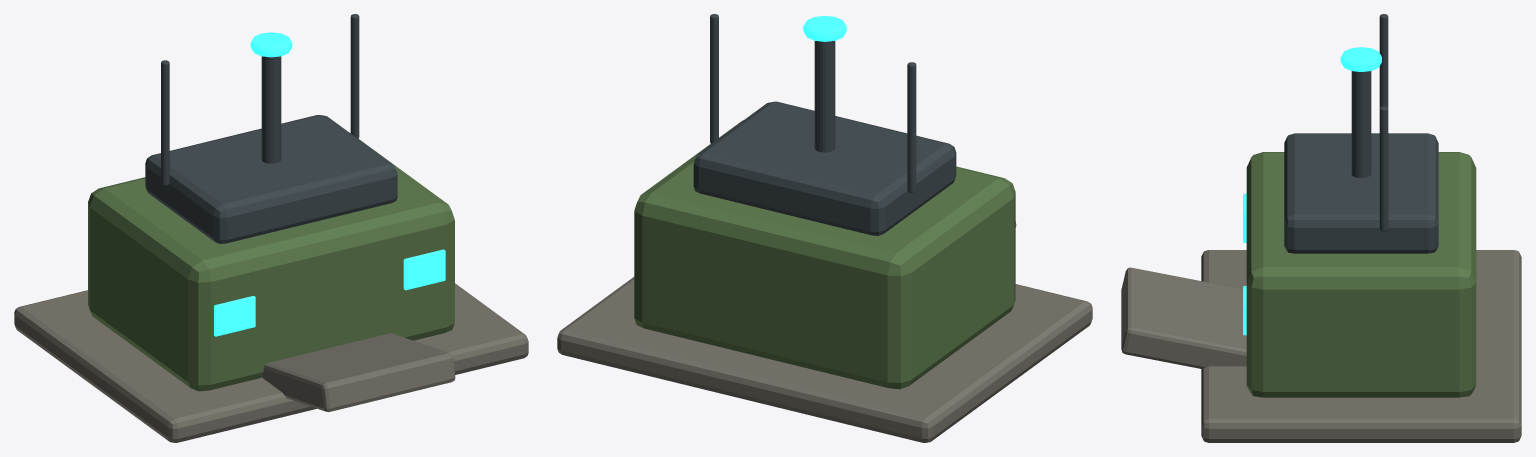
The model's file is human_hq.glb.
The picture shows the model from 3 angles, left to right: view 1: azimuth 30°, elevation 25°; view 2: azimuth 150°, elevation 25°; view 3: azimuth 270°, elevation 25°; orthographic projection. The views are drawn at different scales.
Parts seen in each view (by area): view 1: MainHull, UpperDeck, Foundation, FrontRamp, RadarMast, CyanWindow.001, CyanWindow, Antenna.001, Antenna, Beacon; view 2: MainHull, Foundation, UpperDeck, RadarMast, Antenna, Antenna.001, Beacon; view 3: MainHull, Foundation, UpperDeck, FrontRamp, RadarMast, Antenna.001, Antenna, Beacon.
Boxes of the visible parts, x1=… form: MainHull: x1=88, y1=139, x2=454, y2=391; UpperDeck: x1=145, y1=115, x2=397, y2=243; Foundation: x1=14, y1=283, x2=528, y2=442; FrontRamp: x1=262, y1=333, x2=455, y2=412; RadarMast: x1=261, y1=56, x2=281, y2=163; CyanWindow.001: x1=403, y1=249, x2=445, y2=290; CyanWindow: x1=214, y1=296, x2=255, y2=336; Antenna.001: x1=350, y1=14, x2=359, y2=138; Antenna: x1=161, y1=60, x2=169, y2=185; Beacon: x1=250, y1=32, x2=292, y2=57; MainHull: x1=634, y1=120, x2=1015, y2=389; Foundation: x1=557, y1=277, x2=1092, y2=442; UpperDeck: x1=693, y1=101, x2=956, y2=235; RadarMast: x1=814, y1=41, x2=835, y2=152; Antenna: x1=907, y1=62, x2=916, y2=192; Antenna.001: x1=710, y1=14, x2=718, y2=143; Beacon: x1=803, y1=16, x2=846, y2=41; MainHull: x1=1246, y1=152, x2=1476, y2=397; Foundation: x1=1201, y1=250, x2=1521, y2=442; UpperDeck: x1=1284, y1=133, x2=1438, y2=253; FrontRamp: x1=1121, y1=267, x2=1246, y2=369; RadarMast: x1=1351, y1=71, x2=1371, y2=177; Antenna.001: x1=1379, y1=106, x2=1388, y2=231; Antenna: x1=1379, y1=14, x2=1388, y2=108; Beacon: x1=1340, y1=47, x2=1381, y2=71.
Size of the model in its own units: 2.2 by 1.78 by 2.12.
